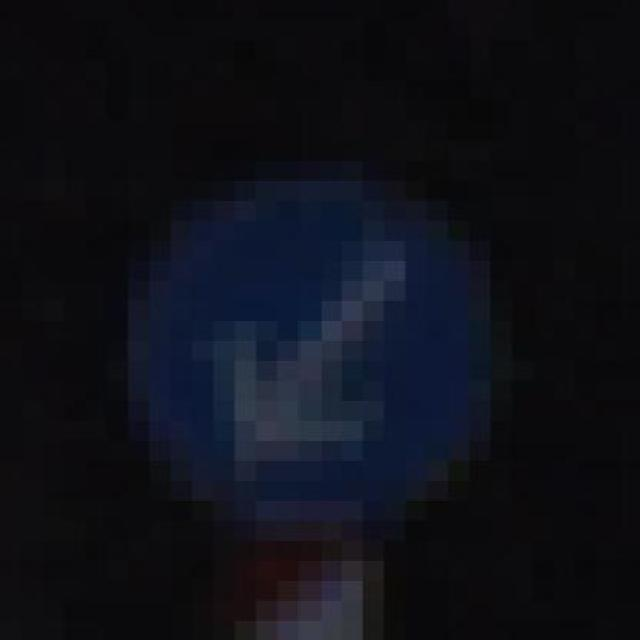Keep-Left: (106, 140, 534, 560)
